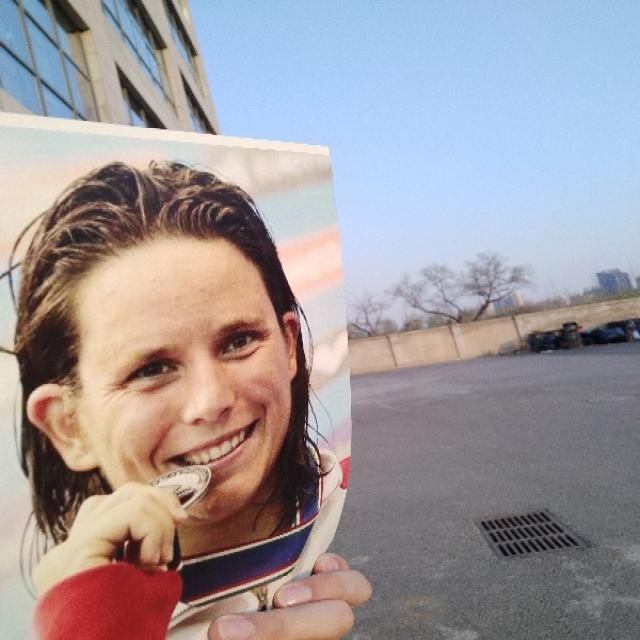photo: (1, 92, 355, 640)
